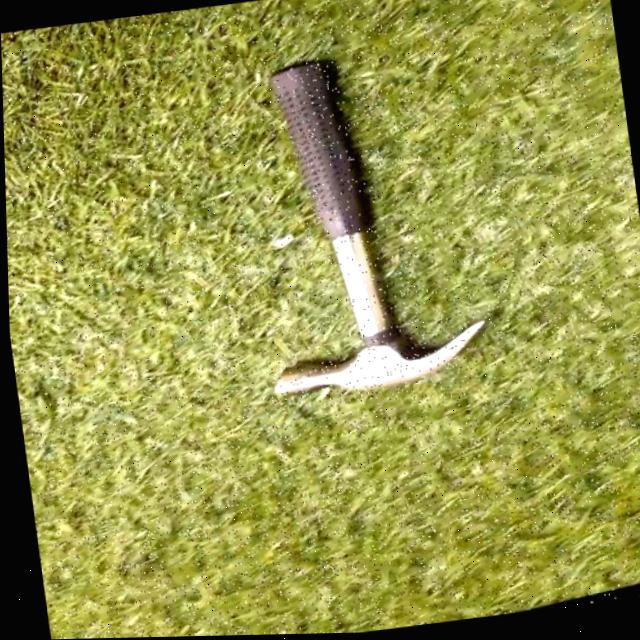hammer: (226, 45, 486, 404)
